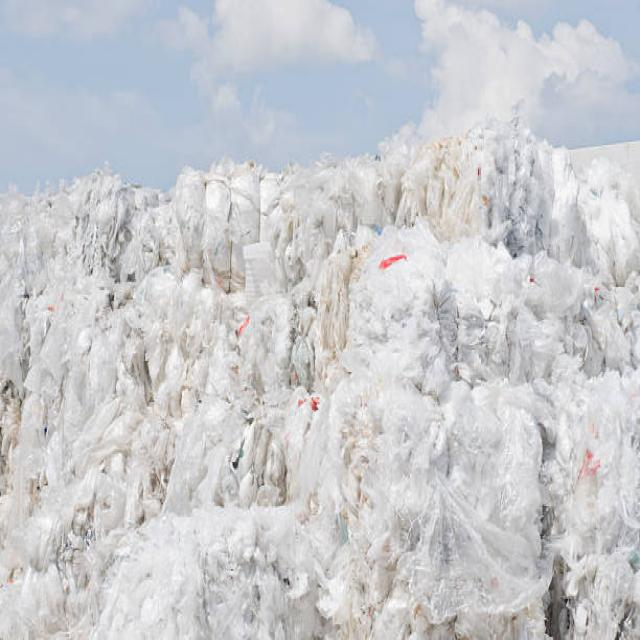trash: (1, 131, 639, 627)
